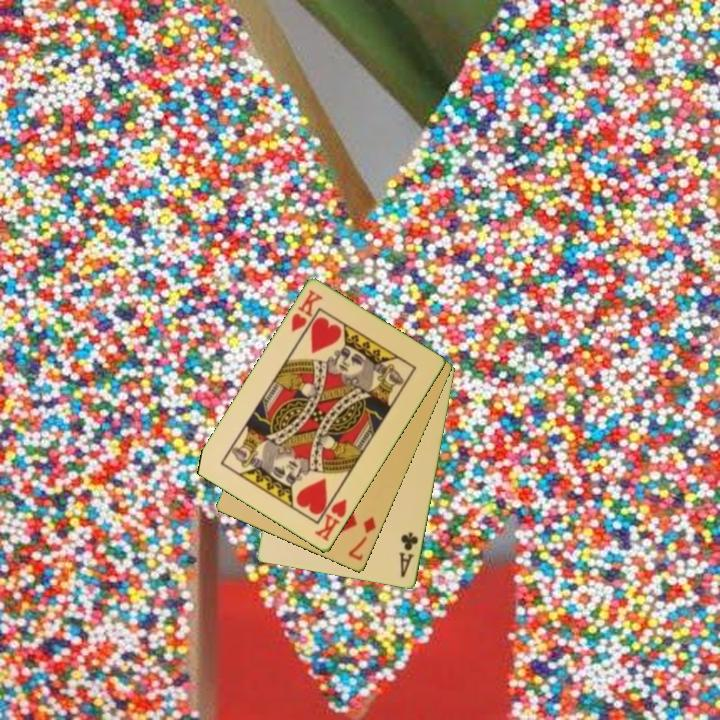7d: (345, 514, 379, 564)
Ac: (396, 529, 421, 581)
Kh: (311, 489, 350, 545), (288, 286, 326, 336)
